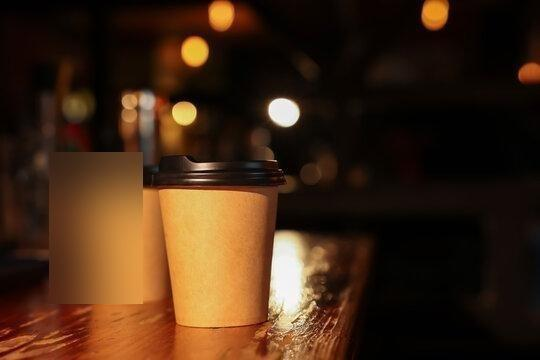cup-disposable: (153, 150, 288, 331)
